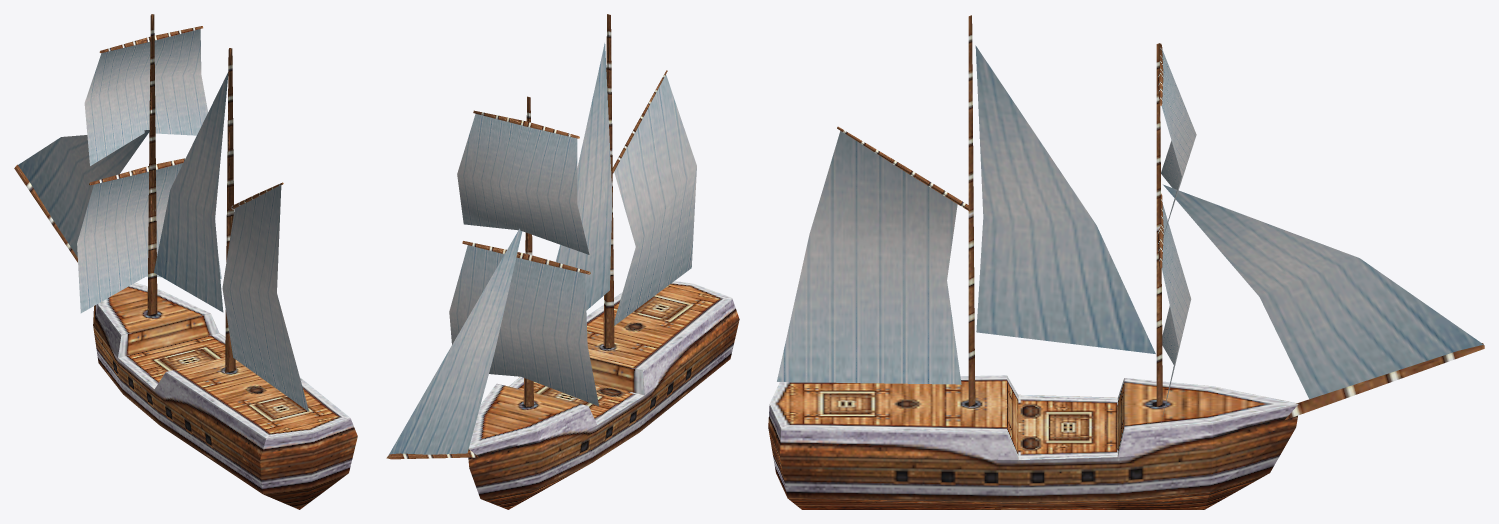
File: ship_island_big.FBX
3 renders of one model, left to right at view 1: azimuth 30°, elevation 25°; view 2: azimuth 150°, elevation 25°; view 3: azimuth 270°, elevation 25°, orthographic. The views are drawn at different scales.
Visible parts, largest first — view 1: 01; view 2: 01; view 3: 01.
Boxes of the visible parts, x1,y1,x2,y2 form: 01: (14,14,357,509); 01: (386,14,739,509); 01: (768,15,1484,509).
Size of the model in its own units: 42.62 by 118 by 155.
